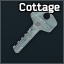Shoreline cottage back door key: (0, 0, 64, 64)
